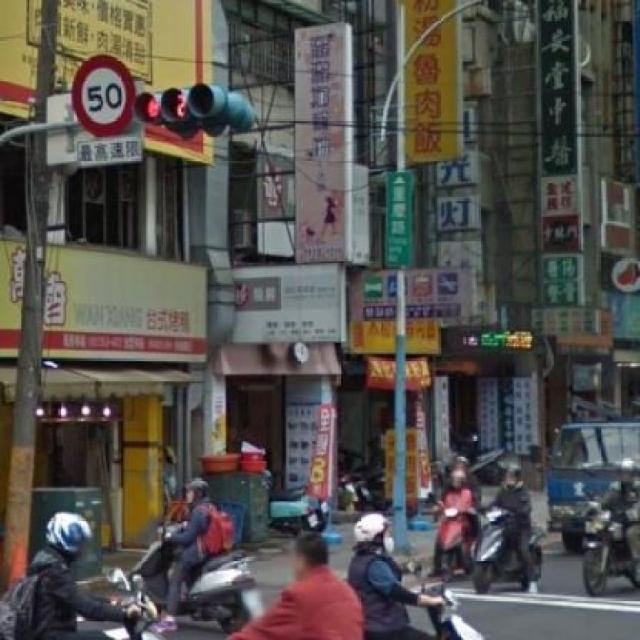forb_speed_over_50: (77, 56, 134, 132)
